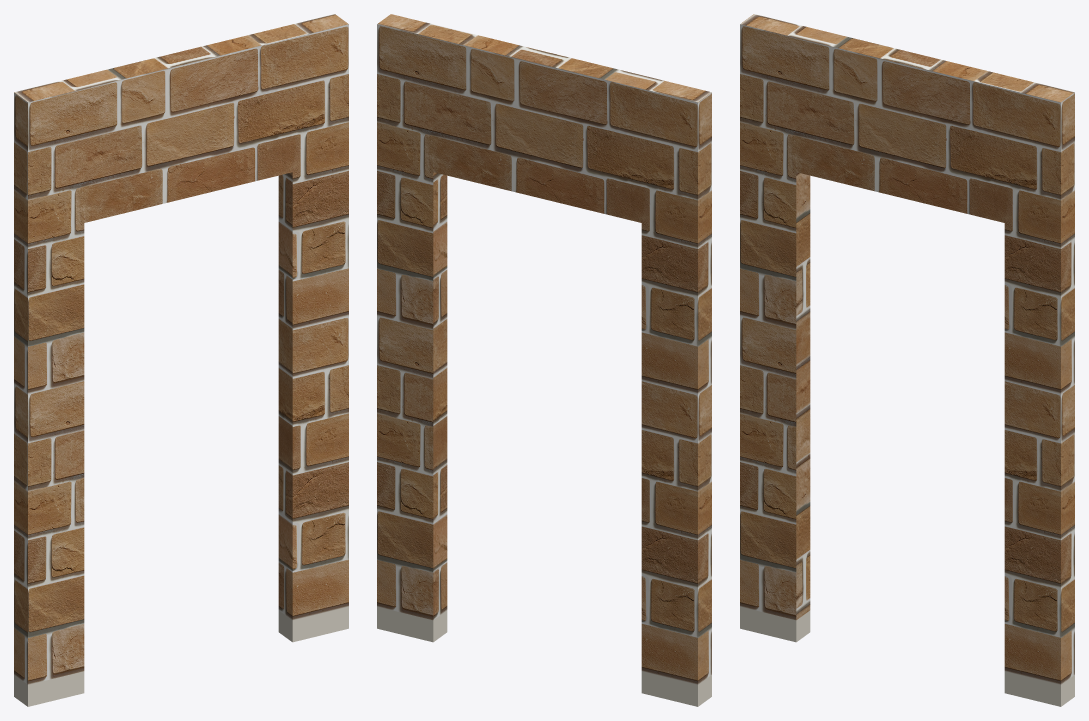
File: ARC0210004.fbx
The picture shows the model from 3 angles, left to right: view 1: azimuth 30°, elevation 25°; view 2: azimuth 150°, elevation 25°; view 3: azimuth 330°, elevation 25°; orthographic projection.
Visible parts, largest first — view 1: smARC0210004; view 2: smARC0210004; view 3: smARC0210004.
Part boxes in pixels (x1,y1,x2,y2): smARC0210004: [14, 14, 348, 706]; smARC0210004: [377, 14, 711, 706]; smARC0210004: [740, 14, 1074, 706].
Size of the model in its own units: 182 by 328 by 13.67.
Materials: 1 (1 with a texture image).
